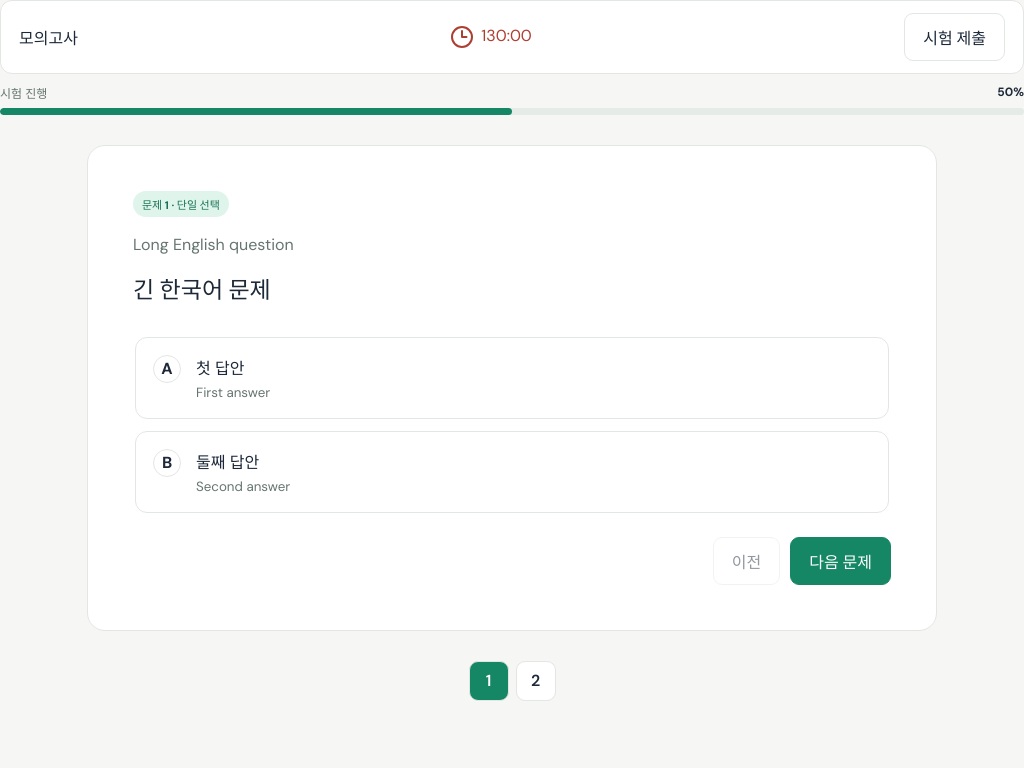
Test: MockExamSession › cancels submission and keeps the exam open after showing unanswered numbers
This screenshot has width=1024, height=768.
Expected: the radio button labelled "A 첫 답안 First answer" is shown, top-left (135, 337), bottom-right (889, 419)
Click the button "시험 제출": click(955, 37) top-left (904, 13), bottom-right (1005, 61)
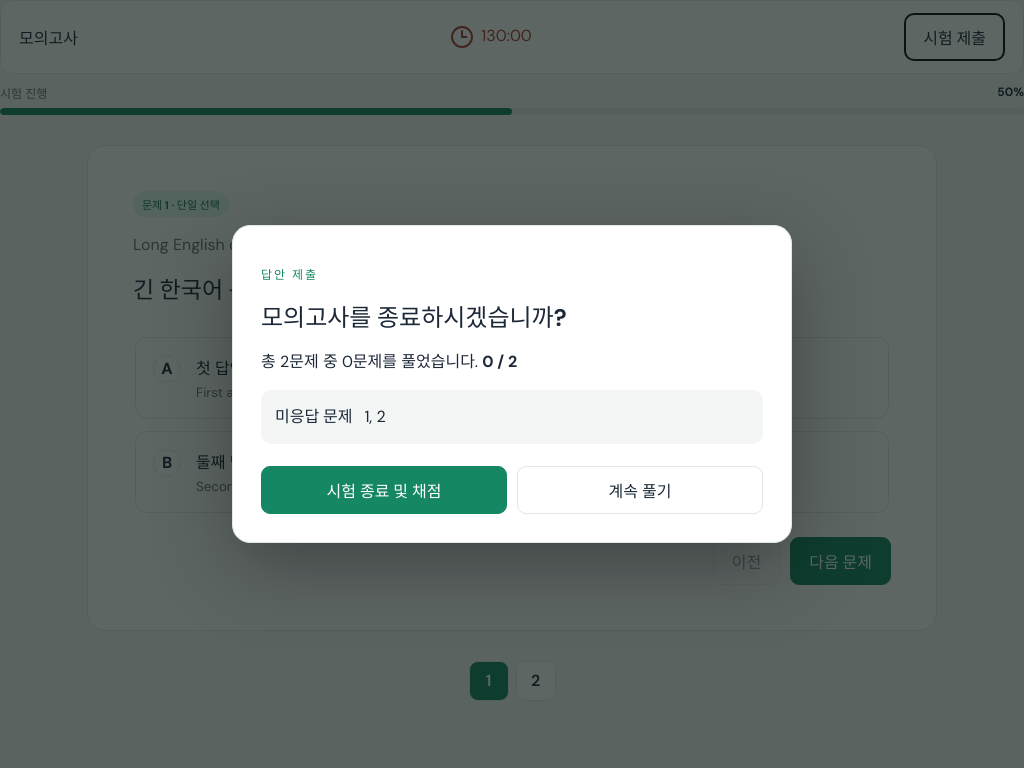
Now the dialog shows "미응답 문제", box top-left (275, 406), bottom-right (352, 427)
Now the dialog shows "1, 2", box top-left (364, 406), bottom-right (386, 427)
Click the button "계속 풀기": click(640, 490) top-left (517, 466), bottom-right (763, 514)
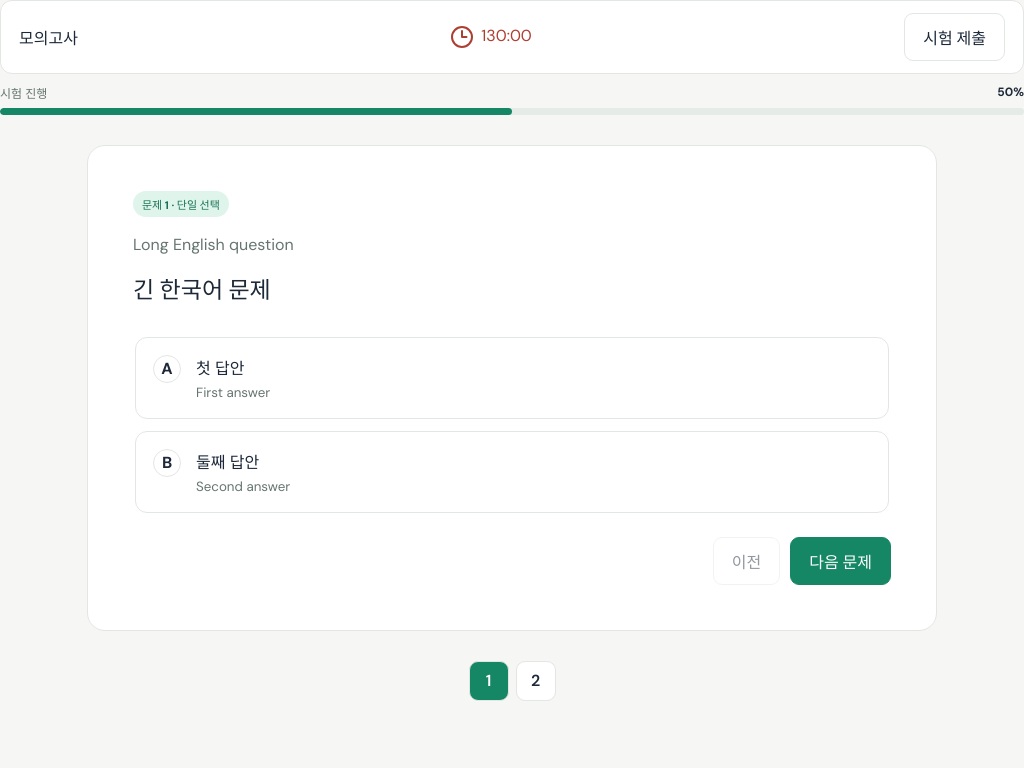
Now the dialog is gone
